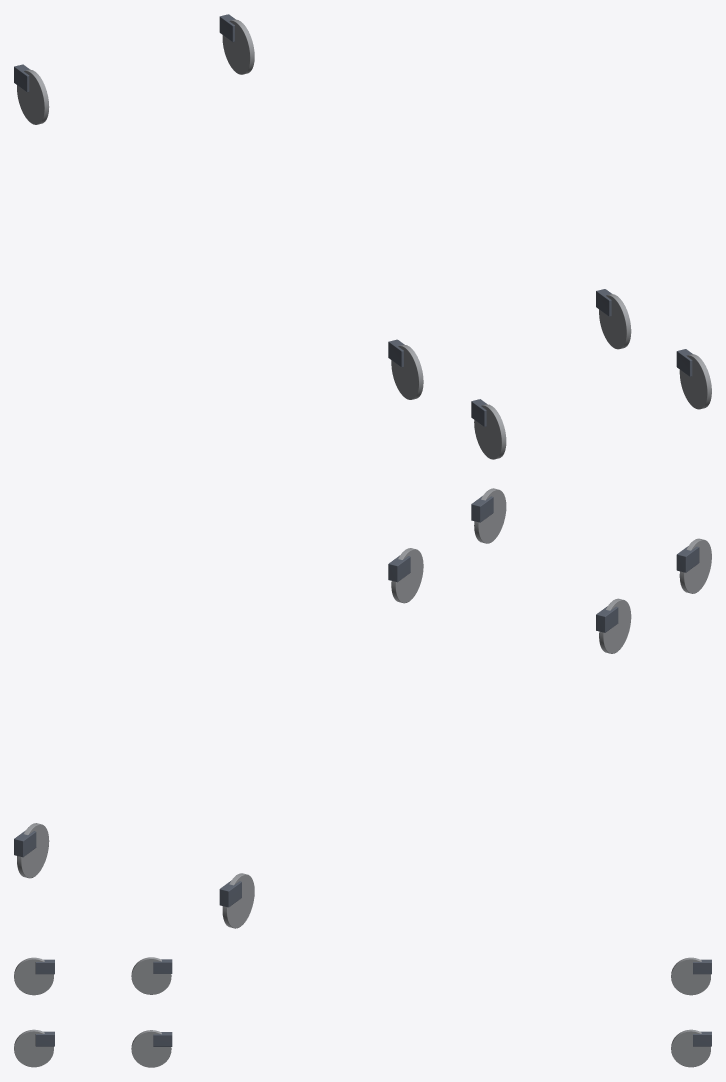
File: brakes.glb
The picture shows the model from 3 angles, top to bottom: view 1: azimuth 30°, elevation 25°; view 2: azimuth 150°, elevation 25°; view 3: azimuth 270°, elevation 25°; orthographic projection. The views are drawn at different scales.
Parts seen in each view (by area): view 1: BRAKE_Rotor_TR, BRAKE_Rotor_RL_Outer, BRAKE_Rotor_RR_Outer, BRAKE_Rotor_TL, BRAKE_Rotor_FR, BRAKE_Rotor_FL; view 2: BRAKE_Rotor_RL_Outer, BRAKE_Rotor_TL, BRAKE_Rotor_RR_Outer, BRAKE_Rotor_FR, BRAKE_Rotor_TR, BRAKE_Rotor_FL; view 3: BRAKE_Rotor_RR_Outer, BRAKE_Rotor_RL_Outer, BRAKE_Rotor_FL, BRAKE_Rotor_FR, BRAKE_Rotor_TL, BRAKE_Rotor_TR, BRAKE_Caliper_TL, BRAKE_Caliper_TR, BRAKE_Caliper_RL_Outer, BRAKE_Caliper_RR_Outer, BRAKE_Caliper_FL, BRAKE_Caliper_FR.
Part boxes in pixels (<box>): BRAKE_Rotor_TR: <box>474,404,506,459</box>; BRAKE_Rotor_RL_Outer: <box>599,294,631,349</box>; BRAKE_Rotor_RR_Outer: <box>391,344,423,399</box>; BRAKE_Rotor_TL: <box>679,354,711,409</box>; BRAKE_Rotor_FR: <box>17,69,49,124</box>; BRAKE_Rotor_FL: <box>222,19,254,74</box>; BRAKE_Rotor_RL_Outer: <box>391,548,423,603</box>; BRAKE_Rotor_TL: <box>474,488,506,543</box>; BRAKE_Rotor_RR_Outer: <box>599,598,631,653</box>; BRAKE_Rotor_FR: <box>222,873,254,928</box>; BRAKE_Rotor_TR: <box>679,538,711,593</box>; BRAKE_Rotor_FL: <box>17,823,49,878</box>; BRAKE_Rotor_RR_Outer: <box>131,957,171,994</box>; BRAKE_Rotor_RL_Outer: <box>131,1030,171,1067</box>; BRAKE_Rotor_FL: <box>671,1029,710,1067</box>; BRAKE_Rotor_FR: <box>671,957,710,995</box>; BRAKE_Rotor_TL: <box>14,1029,53,1067</box>; BRAKE_Rotor_TR: <box>14,957,53,995</box>; BRAKE_Caliper_TL: <box>35,1031,54,1046</box>; BRAKE_Caliper_TR: <box>35,959,54,974</box>; BRAKE_Caliper_RL_Outer: <box>153,1032,172,1046</box>; BRAKE_Caliper_RR_Outer: <box>153,959,172,973</box>; BRAKE_Caliper_FL: <box>693,1031,711,1046</box>; BRAKE_Caliper_FR: <box>693,959,711,974</box>.
Bounding box in the file's own units: 2.07 × 0.46 × 8.02.
